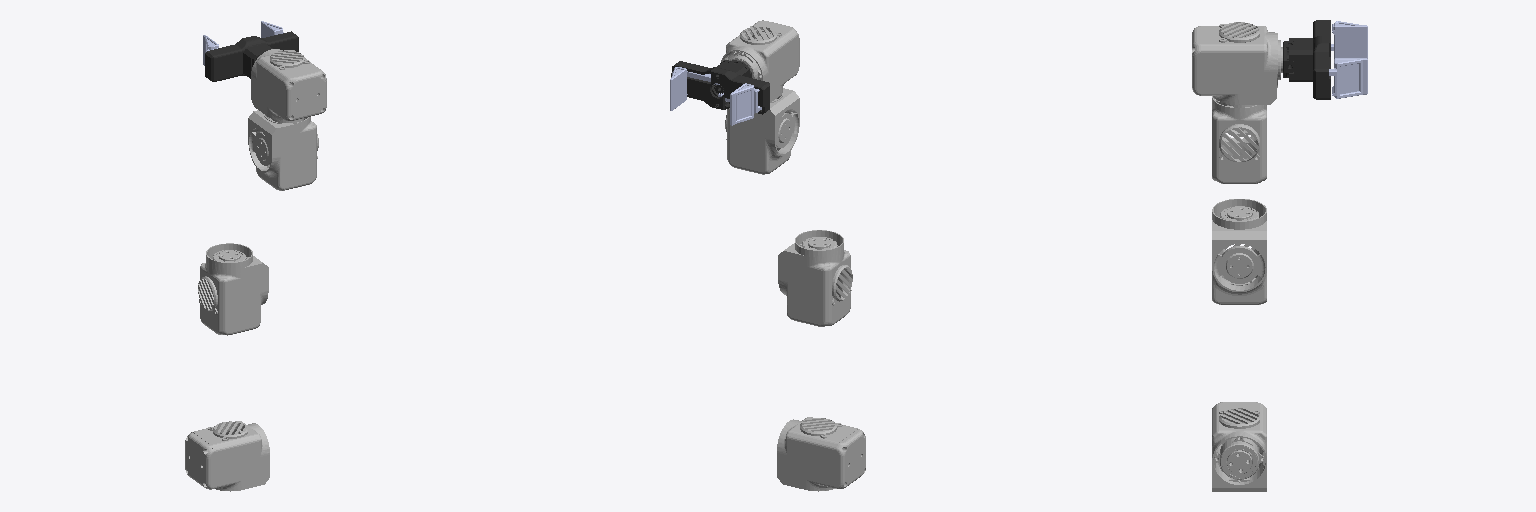
URDF robot description (8dof_description):
<?xml version="1.0" encoding="utf-8"?>
<!-- This URDF was automatically created by SolidWorks to URDF Exporter! Originally created by Stephen Brawner (brawner@gmail.com) 
     Commit Version: 1.6.0-4-g7f85cfe  Build Version: 1.6.7995.38578
     For more information, please see http://wiki.ros.org/sw_urdf_exporter -->
<robot
  name="8dof_description">
  <link
    name="base_link">
    <inertial>
      <origin
        xyz="-2.08175701580243E-05 -0.0215944619940899 0.0386965059587762"
        rpy="0 0 0" />
      <mass
        value="0.226867575584474" />
      <inertia
        ixx="0.000310138970163127"
        ixy="3.57652047089324E-08"
        ixz="2.76570159637442E-09"
        iyy="0.000172445953154283"
        iyz="-1.18759040248718E-05"
        izz="0.000403590658467127" />
    </inertial>
    <visual>
      <origin
        xyz="0 0 0"
        rpy="0 0 0" />
      <geometry>
        <mesh
          filename="package://8dof_description/meshes/base_link.STL" />
      </geometry>
      <material
        name="">
        <color
          rgba="0.752941176470588 0.752941176470588 0.752941176470588 1" />
      </material>
    </visual>
    <collision>
      <origin
        xyz="0 0 0"
        rpy="0 0 0" />
      <geometry>
        <mesh
          filename="package://8dof_description/meshes/base_link.STL" />
      </geometry>
    </collision>
  </link>
  <link
    name="link_1">
    <inertial>
      <origin
        xyz="0.00362239334791756 -3.81795642908633E-05 0.140982620125569"
        rpy="0 0 0" />
      <mass
        value="0.141639977131661" />
      <inertia
        ixx="8.98141382308835E-05"
        ixy="1.13468736177962E-08"
        ixz="3.51673525250542E-06"
        iyy="9.15722320805618E-05"
        iyz="3.6542592292488E-08"
        izz="0.000140053948831358" />
    </inertial>
    <visual>
      <origin
        xyz="0 0 0"
        rpy="0 0 0" />
      <geometry>
        <mesh
          filename="package://8dof_description/meshes/link_1.STL" />
      </geometry>
      <material
        name="">
        <color
          rgba="0.752941176470588 0.752941176470588 0.752941176470588 1" />
      </material>
    </visual>
    <collision>
      <origin
        xyz="0 0 0"
        rpy="0 0 0" />
      <geometry>
        <mesh
          filename="package://8dof_description/meshes/link_1.STL" />
      </geometry>
    </collision>
  </link>
  <joint
    name="joint_1"
    type="revolute">
    <origin
      xyz="0 0 0"
      rpy="0 0 0" />
    <parent
      link="base_link" />
    <child
      link="link_1" />
    <axis
      xyz="0 0 1" />
    <limit
      lower="-0.785398"
      upper="3.92699"
      effort="2"
      velocity="3" />
  </joint>
  <link
    name="link_2">
    <inertial>
      <origin
        xyz="7.53940182482427E-06 0.00505678180282546 0.0842129380713663"
        rpy="0 0 0" />
      <mass
        value="0.143507549223786" />
      <inertia
        ixx="9.77478537604331E-05"
        ixy="-1.67427633619241E-08"
        ixz="-1.8083438756804E-08"
        iyy="9.07459548934155E-05"
        iyz="3.57849204977034E-06"
        izz="0.000147113534917112" />
    </inertial>
    <visual>
      <origin
        xyz="0 0 0"
        rpy="0 0 0" />
      <geometry>
        <mesh
          filename="package://8dof_description/meshes/link_2.STL" />
      </geometry>
      <material
        name="">
        <color
          rgba="0.752941176470588 0.752941176470588 0.752941176470588 1" />
      </material>
    </visual>
    <collision>
      <origin
        xyz="0 0 0"
        rpy="0 0 0" />
      <geometry>
        <mesh
          filename="package://8dof_description/meshes/link_2.STL" />
      </geometry>
    </collision>
  </link>
  <joint
    name="joint_2"
    type="revolute">
    <origin
      xyz="0 0 0.1464"
      rpy="1.5707963267949 0 1.5707963267949" />
    <parent
      link="link_1" />
    <child
      link="link_2" />
    <axis
      xyz="0 0 1" />
    <limit
      lower="-1.57"
      upper="1.57"
      effort="2"
      velocity="3" />
  </joint>
  <link
    name="link_3">
    <inertial>
      <origin
        xyz="-0.00330775018246701 -1.51931359661378E-05 -0.215292675404989"
        rpy="0 0 0" />
      <mass
        value="0.173954075434222" />
      <inertia
        ixx="0.000144630940442922"
        ixy="-1.32847181187994E-07"
        ixz="3.53526021477459E-06"
        iyy="0.000147338139082199"
        iyz="-6.41277682295082E-09"
        izz="0.000161646518516295" />
    </inertial>
    <visual>
      <origin
        xyz="0 0 0"
        rpy="0 0 0" />
      <geometry>
        <mesh
          filename="package://8dof_description/meshes/link_3.STL" />
      </geometry>
      <material
        name="">
        <color
          rgba="0.752941176470588 0.752941176470588 0.752941176470588 1" />
      </material>
    </visual>
    <collision>
      <origin
        xyz="0 0 0"
        rpy="0 0 0" />
      <geometry>
        <mesh
          filename="package://8dof_description/meshes/link_3.STL" />
      </geometry>
    </collision>
  </link>
  <joint
    name="joint_3"
    type="revolute">
    <origin
      xyz="0 0 0.0894999999999936"
      rpy="1.5707963267949 -1.5707963267949 0" />
    <parent
      link="link_2" />
    <child
      link="link_3" />
    <axis
      xyz="0 0 -1" />
    <limit
      lower="-3.14"
      upper="3.14"
      effort="2"
      velocity="3" />
  </joint>
  <link
    name="link_4">
    <inertial>
      <origin
        xyz="-3.69732387454358E-05 -0.0033965928719577 0.0858843482112302"
        rpy="0 0 0" />
      <mass
        value="0.148325167434625" />
      <inertia
        ixx="9.83824919124809E-05"
        ixy="-8.95348942306975E-09"
        ixz="3.53186062441229E-08"
        iyy="9.2436601034005E-05"
        iyz="-3.58230406317328E-06"
        izz="0.000148216123686448" />
    </inertial>
    <visual>
      <origin
        xyz="0 0 0"
        rpy="0 0 0" />
      <geometry>
        <mesh
          filename="package://8dof_description/meshes/link_4.STL" />
      </geometry>
      <material
        name="">
        <color
          rgba="0.752941176470588 0.752941176470588 0.752941176470588 1" />
      </material>
    </visual>
    <collision>
      <origin
        xyz="0 0 0"
        rpy="0 0 0" />
      <geometry>
        <mesh
          filename="package://8dof_description/meshes/link_4.STL" />
      </geometry>
    </collision>
  </link>
  <joint
    name="joint_4"
    type="revolute">
    <origin
      xyz="0 0 -0.24698520586243"
      rpy="1.5707963267949 0 -1.5707963267949" />
    <parent
      link="link_3" />
    <child
      link="link_4" />
    <axis
      xyz="0 0 1" />
    <limit
      lower="-2.09"
      upper="2.09"
      effort="2"
      velocity="3" />
  </joint>
  <link
    name="link_5">
    <inertial>
      <origin
        xyz="0.00206792792814742 -2.76614863313485E-05 0.175346578298024"
        rpy="0 0 0" />
      <mass
        value="0.170949127914978" />
      <inertia
        ixx="0.000112877897565311"
        ixy="1.33876282485736E-07"
        ixz="3.50583392437512E-06"
        iyy="0.00011462399449212"
        iyz="-1.95086999820314E-08"
        izz="0.000157908884644634" />
    </inertial>
    <visual>
      <origin
        xyz="0 0 0"
        rpy="0 0 0" />
      <geometry>
        <mesh
          filename="package://8dof_description/meshes/link_5.STL" />
      </geometry>
      <material
        name="">
        <color
          rgba="0.752941176470588 0.752941176470588 0.752941176470588 1" />
      </material>
    </visual>
    <collision>
      <origin
        xyz="0 0 0"
        rpy="0 0 0" />
      <geometry>
        <mesh
          filename="package://8dof_description/meshes/link_5.STL" />
      </geometry>
    </collision>
  </link>
  <joint
    name="joint_5"
    type="revolute">
    <origin
      xyz="0 0 0.0909852058624292"
      rpy="1.5707963267949 1.5707963267949 0" />
    <parent
      link="link_4" />
    <child
      link="link_5" />
    <axis
      xyz="0 0 1" />
    <limit
      lower="-3.14"
      upper="3.14"
      effort="2"
      velocity="3" />
  </joint>
  <link
    name="link_6">
    <inertial>
      <origin
        xyz="4.11085997713834E-05 0.00257530402715256 0.0857796541219091"
        rpy="0 0 0" />
      <mass
        value="0.145620756588228" />
      <inertia
        ixx="9.17894079115679E-05"
        ixy="-9.76230646695324E-09"
        ixz="-3.67352230545471E-08"
        iyy="9.06990729876771E-05"
        iyz="3.51811623142639E-06"
        izz="0.000140766609119444" />
    </inertial>
    <visual>
      <origin
        xyz="0 0 0"
        rpy="0 0 0" />
      <geometry>
        <mesh
          filename="package://8dof_description/meshes/link_6.STL" />
      </geometry>
      <material
        name="">
        <color
          rgba="0.752941176470588 0.752941176470588 0.752941176470588 1" />
      </material>
    </visual>
    <collision>
      <origin
        xyz="0 0 0"
        rpy="0 0 0" />
      <geometry>
        <mesh
          filename="package://8dof_description/meshes/link_6.STL" />
      </geometry>
    </collision>
  </link>
  <joint
    name="joint_6"
    type="revolute">
    <origin
      xyz="0 0 0.19698520586243"
      rpy="1.5707963267949 0 1.5707963267949" />
    <parent
      link="link_5" />
    <child
      link="link_6" />
    <axis
      xyz="0 0 1" />
    <limit
      lower="-2.09"
      upper="2.09"
      effort="2"
      velocity="3" />
  </joint>
  <link
    name="link_7">
    <inertial>
      <origin
        xyz="3.04281750932445E-05 0.00389253372731124 -0.0873287224716447"
        rpy="0 0 0" />
      <mass
        value="0.208798877978331" />
      <inertia
        ixx="0.000104218009947256"
        ixy="1.74574824717128E-08"
        ixz="5.38289410367358E-08"
        iyy="0.000112327075315552"
        iyz="3.51730775061429E-06"
        izz="0.00015338924637272" />
    </inertial>
    <visual>
      <origin
        xyz="0 0 0"
        rpy="0 0 0" />
      <geometry>
        <mesh
          filename="package://8dof_description/meshes/link_7.STL" />
      </geometry>
      <material
        name="">
        <color
          rgba="0.752941176470588 0.752941176470588 0.752941176470588 1" />
      </material>
    </visual>
    <collision>
      <origin
        xyz="0 0 0"
        rpy="0 0 0" />
      <geometry>
        <mesh
          filename="package://8dof_description/meshes/link_7.STL" />
      </geometry>
    </collision>
  </link>
  <joint
    name="joint_7"
    type="revolute">
    <origin
      xyz="0 0 0.0909852058624294"
      rpy="1.5707963267949 -1.5707963267949 0" />
    <parent
      link="link_6" />
    <child
      link="link_7" />
    <axis
      xyz="0 0 -1" />
    <limit
      lower="-2.09"
      upper="2.09"
      effort="2"
      velocity="3" />
  </joint>
  <link
    name="tool_frame">
    <inertial>
      <origin
        xyz="2.64411535884357E-05 9.79545500181533E-05 0.0184262437077161"
        rpy="0 0 0" />
      <mass
        value="0.125010719073419" />
      <inertia
        ixx="2.2629392203171E-05"
        ixy="2.32911033544108E-06"
        ixz="8.5900261072939E-10"
        iyy="0.00012815635241114"
        iyz="5.55851104809067E-09"
        izz="0.000144851958518917" />
    </inertial>
    <visual>
      <origin
        xyz="0 0 0"
        rpy="0 0 0" />
      <geometry>
        <mesh
          filename="package://8dof_description/meshes/tool_frame.STL" />
      </geometry>
      <material
        name="">
        <color
          rgba="0.250980392156863 0.250980392156863 0.250980392156863 1" />
      </material>
    </visual>
    <collision>
      <origin
        xyz="0 0 0"
        rpy="0 0 0" />
      <geometry>
        <mesh
          filename="package://8dof_description/meshes/tool_frame.STL" />
      </geometry>
    </collision>
  </link>
  <joint
    name="tool_joint"
    type="revolute">
    <origin
      xyz="0 -0.102485205862441 -0.0909852058624315"
      rpy="-1.5707963267949 0 0" />
    <parent
      link="link_7" />
    <child
      link="tool_frame" />
    <axis
      xyz="0 0 -1" />
    <limit
      lower="-2.09"
      upper="2.09"
      effort="2"
      velocity="3" />
  </joint>
  <link
    name="grip_left">
    <inertial>
      <origin
        xyz="-0.0454469154965145 -0.00225339802100599 -0.0156033496088577"
        rpy="0 0 0" />
      <mass
        value="0.0199960953484895" />
      <inertia
        ixx="6.8520261009693E-06"
        ixy="6.28134392390056E-07"
        ixz="-1.03874099356176E-06"
        iyy="6.67336841270338E-06"
        iyz="8.79996273613866E-07"
        izz="5.95029100616287E-06" />
    </inertial>
    <visual>
      <origin
        xyz="0 0 0"
        rpy="0 0 0" />
      <geometry>
        <mesh
          filename="package://8dof_description/meshes/grip_left.STL" />
      </geometry>
      <material
        name="">
        <color
          rgba="0.792156862745098 0.819607843137255 0.933333333333333 1" />
      </material>
    </visual>
    <collision>
      <origin
        xyz="0 0 0"
        rpy="0 0 0" />
      <geometry>
        <mesh
          filename="package://8dof_description/meshes/grip_left.STL" />
      </geometry>
    </collision>
  </link>
  <joint
    name="grip_left"
    type="prismatic">
    <origin
      xyz="0 0 0"
      rpy="0 0 0" />
    <parent
      link="tool_frame" />
    <child
      link="grip_left" />
    <axis
      xyz="-1 0 0" />
    <limit
      lower="-0.04"
      upper="0"
      effort="1"
      velocity="0.5" />
  </joint>
  <link
    name="grip_right">
    <inertial>
      <origin
        xyz="0.0454469154965374 0.00225339802100588 -0.0156033496088577"
        rpy="0 0 0" />
      <mass
        value="0.0199960953484896" />
      <inertia
        ixx="6.85202610096932E-06"
        ixy="6.28134392390057E-07"
        ixz="1.03874099356176E-06"
        iyy="6.67336841270338E-06"
        iyz="-8.7999627361387E-07"
        izz="5.95029100616287E-06" />
    </inertial>
    <visual>
      <origin
        xyz="0 0 0"
        rpy="0 0 0" />
      <geometry>
        <mesh
          filename="package://8dof_description/meshes/grip_right.STL" />
      </geometry>
      <material
        name="">
        <color
          rgba="0.792156862745098 0.819607843137255 0.933333333333333 1" />
      </material>
    </visual>
    <collision>
      <origin
        xyz="0 0 0"
        rpy="0 0 0" />
      <geometry>
        <mesh
          filename="package://8dof_description/meshes/grip_right.STL" />
      </geometry>
    </collision>
  </link>
  <joint
    name="grip_right"
    type="prismatic">
    <origin
      xyz="0 0 0"
      rpy="0 0 0" />
    <parent
      link="tool_frame" />
    <child
      link="grip_right" />
    <axis
      xyz="-1 0 0" />
    <limit
      lower="0"
      upper="0.04"
      effort="1"
      velocity="0.5" />
  </joint>
</robot>

--- What the picture shows (computed from the rendered views, not written in the file) ---
Views: 3 orthographic renders of the robot side by side, from view 1: azimuth 30°, elevation 25°; view 2: azimuth 150°, elevation 25°; view 3: azimuth 270°, elevation 25°.
Model 8dof_description with 11 links and 10 joints (8 revolute, 2 prismatic), rooted at base_link, posed all joints at 0.
Links seen in each view (by area): view 1: link_4, link_1, link_7, link_6, tool_frame; view 2: link_4, link_1, link_6, link_7, tool_frame, grip_left, grip_right; view 3: link_7, link_4, link_1, link_6, tool_frame, grip_right, grip_left.
Boxes of the visible links, x1,y1,x2,y2 form: link_4: (198,243,268,335); link_1: (185,421,269,491); link_7: (251,49,326,120); link_6: (248,110,318,190); tool_frame: (205,31,298,81); link_4: (778,230,852,326); link_1: (777,417,865,491); link_6: (725,88,799,174); link_7: (721,20,799,102); tool_frame: (671,60,769,114); grip_left: (718,83,761,125); grip_right: (670,67,719,110); link_7: (1192,22,1282,104); link_4: (1212,199,1266,304); link_1: (1212,402,1266,491); link_6: (1212,96,1266,183); tool_frame: (1283,20,1330,99); grip_right: (1329,58,1367,98); grip_left: (1331,21,1367,58).
Size in the robot's own frame: 0.2134 by 0.2034 by 0.6162 metres.
7 mesh visuals loaded from 11 distinct referenced files (7 binary STL); not drawn: 4 (reference not matched to a file when rendering).
